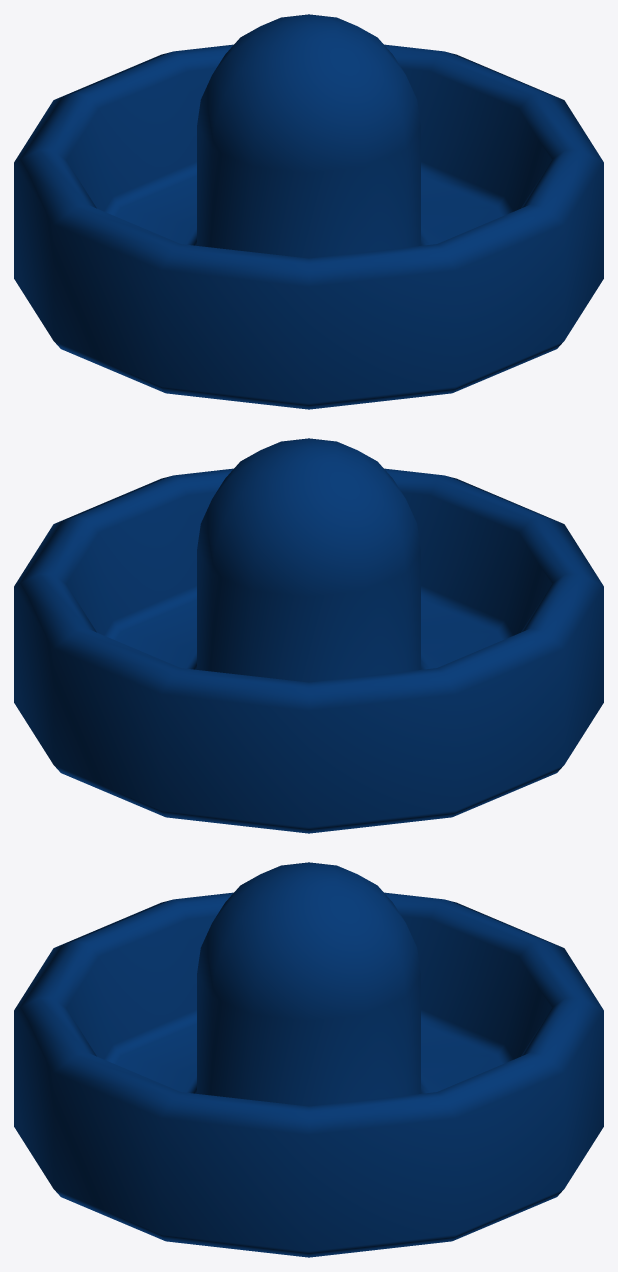
Rendered from Striker1.obj.
3 renders of one model, top to bottom at view 1: azimuth 30°, elevation 25°; view 2: azimuth 150°, elevation 25°; view 3: azimuth 270°, elevation 25°, orthographic.
Visible parts, largest first — view 1: Handle1_BluePlasticShader_0; view 2: Handle1_BluePlasticShader_0; view 3: Handle1_BluePlasticShader_0.
Boxes of the visible parts, x1,y1,x2,y2 form: Handle1_BluePlasticShader_0: (14,14,603,409); Handle1_BluePlasticShader_0: (14,438,603,833); Handle1_BluePlasticShader_0: (14,862,603,1257).
Bounding box in the file's own units: 15.86 × 7.84 × 15.86.
